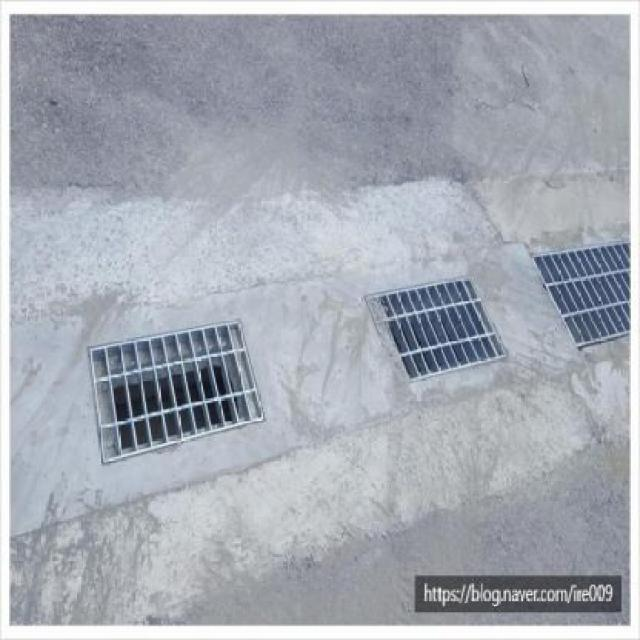Drain Hole: (96, 315, 273, 472)
